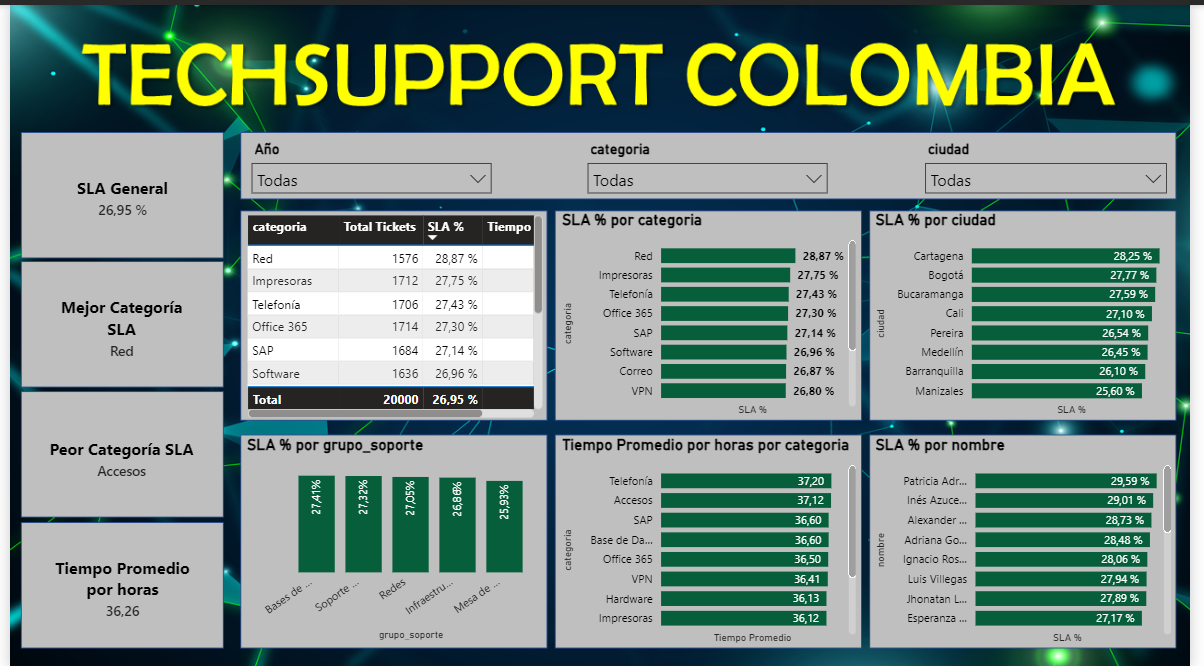

The dashboard page shown, as its layout file describes it:
{"tool":"powerbi","page":{"name":"Cumplimiento SLA y Calidad","canvas":[1280,720],"ordinal":3},"visuals":[{"type":"cardVisual","fields":{"Data":["Medidas.SLA General"]},"box":[12.7,141.6,218.1,134.6],"z":0},{"type":"cardVisual","fields":{"Data":["Medidas.Mejor Categoría SLA"]},"box":[12.7,283.2,216.3,134],"z":1000},{"type":"cardVisual","fields":{"Data":["Medidas.Peor Categoría SLA"]},"box":[12.7,424.3,216.3,134],"z":2000},{"type":"cardVisual","fields":{"Data":["Medidas.Tiempo Promedio"]},"box":[12.7,565.3,218.1,133.9],"z":3000},{"type":"slicer","fields":{"Values":["Calendario.Año"]},"box":[251.9,141.5,279.7,70.2],"z":4000},{"type":"slicer","fields":{"Values":["tickets.categoria"]},"box":[617.1,141.5,279.8,68.3],"z":5000},{"type":"slicer","fields":{"Values":["usuarios.ciudad"]},"box":[982.4,141.5,281.7,70],"z":6000},{"type":"clusteredBarChart","fields":{"Category":["tickets.categoria"],"Y":["Medidas.SLA %"]},"box":[593.7,222.8,328.6,226.1],"z":7000},{"type":"clusteredBarChart","fields":{"Category":["usuarios.ciudad"],"Y":["Medidas.SLA %"]},"box":[933.6,222.8,330.2,226.1],"z":8000},{"type":"columnChart","fields":{"Category":["analistas.grupo_soporte"],"Y":["Medidas.SLA %"]},"box":[252.1,466.8,330.2,226.1],"z":9000},{"type":"clusteredBarChart","title":"Tiempo Promedio por horas por categoria","fields":{"Category":["tickets.categoria"],"Y":["Medidas.Tiempo Promedio"]},"box":[593.7,466.8,328.6,229.3],"z":10000},{"type":"clusteredBarChart","fields":{"Category":["analistas.nombre"],"Y":["Medidas.SLA %"]},"box":[933.6,466.8,330.2,229.3],"z":11000},{"type":"tableEx","fields":{"Values":["tickets.categoria","Medidas.Total Tickets","Medidas.SLA %","Medidas.Tiempo Promedio"]},"box":[252.1,222.8,330.2,229.3],"z":12000}]}

Visuals, with their boxes in screenshot pixels (x1, y1, x2, y2), scaled from the page's 1280x720 canvas onto the 1204x666 screenshot:
cardVisual - Medidas.SLA General: <box>12,131,217,255</box>
cardVisual - Medidas.Mejor Categoría SLA: <box>12,262,215,386</box>
cardVisual - Medidas.Peor Categoría SLA: <box>12,392,215,516</box>
cardVisual - Medidas.Tiempo Promedio: <box>12,523,217,647</box>
slicer - Calendario.Año: <box>237,131,500,196</box>
slicer - tickets.categoria: <box>580,131,844,194</box>
slicer - usuarios.ciudad: <box>924,131,1189,196</box>
clusteredBarChart - tickets.categoria x Medidas.SLA %: <box>558,206,868,415</box>
clusteredBarChart - usuarios.ciudad x Medidas.SLA %: <box>878,206,1189,415</box>
columnChart - analistas.grupo_soporte x Medidas.SLA %: <box>237,432,548,641</box>
"Tiempo Promedio por horas por categoria" clusteredBarChart: <box>558,432,868,644</box>
clusteredBarChart - analistas.nombre x Medidas.SLA %: <box>878,432,1189,644</box>
tableEx - tickets.categoria x Medidas.Total Tickets: <box>237,206,548,418</box>
